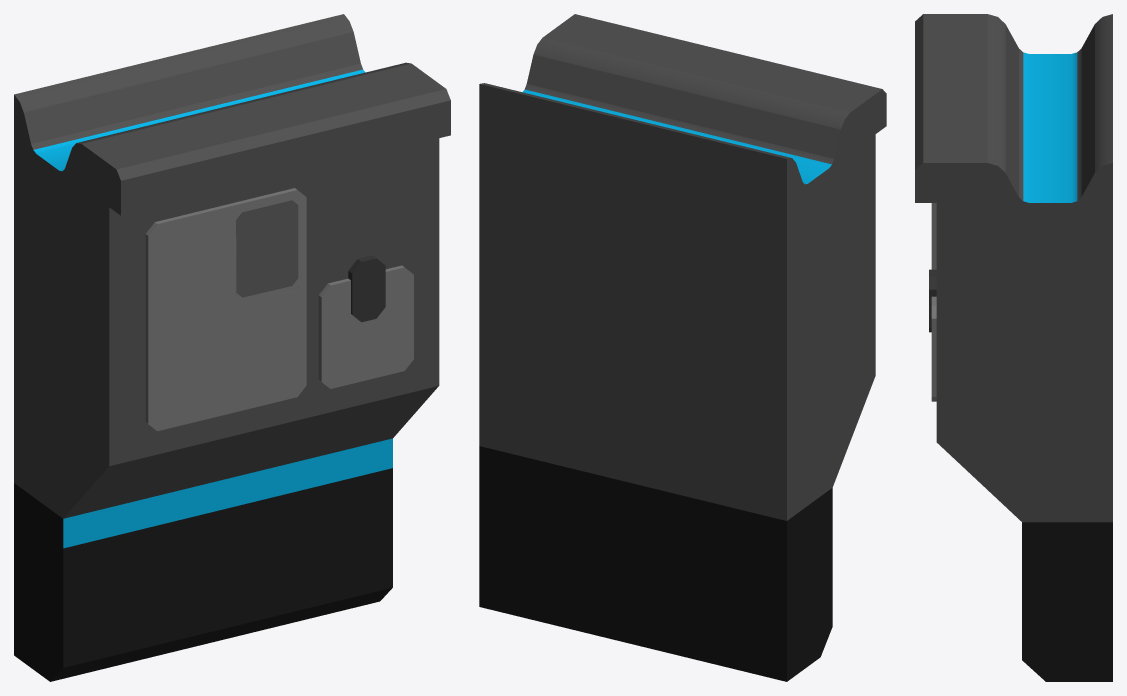
File: Floor_Edge_01E.fbx
The picture shows the model from 3 angles, left to right: view 1: azimuth 30°, elevation 25°; view 2: azimuth 150°, elevation 25°; view 3: azimuth 270°, elevation 25°; orthographic projection. The views are drawn at different scales.
Visible parts, largest first — view 1: Floor_Edge_01E; view 2: Floor_Edge_01E; view 3: Floor_Edge_01E.
Part boxes in pixels (x1,y1,x2,y2): Floor_Edge_01E: [14, 14, 450, 681]; Floor_Edge_01E: [479, 14, 886, 681]; Floor_Edge_01E: [915, 14, 1112, 681].
Bounding box in the file's own units: 400 × 650 × 225.
